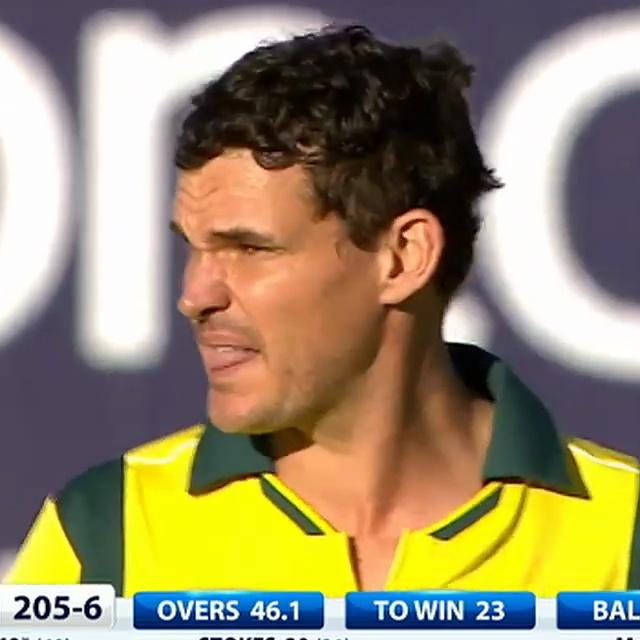umpire: (460, 0, 640, 606)
